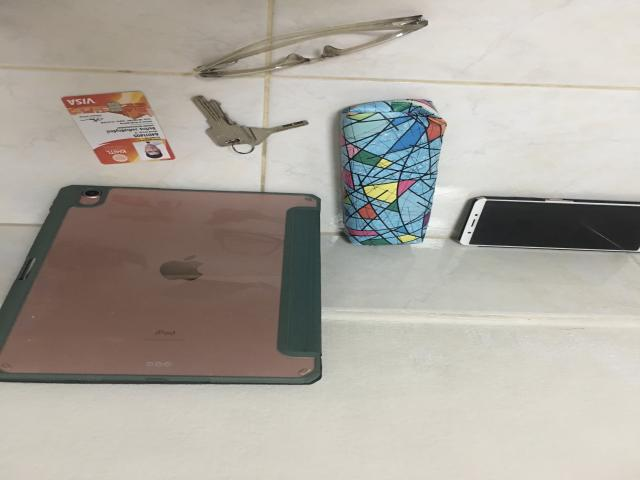Glasses: (193, 15, 428, 77)
Keys: (192, 96, 308, 154)
Mobile phone: (460, 197, 640, 252)
